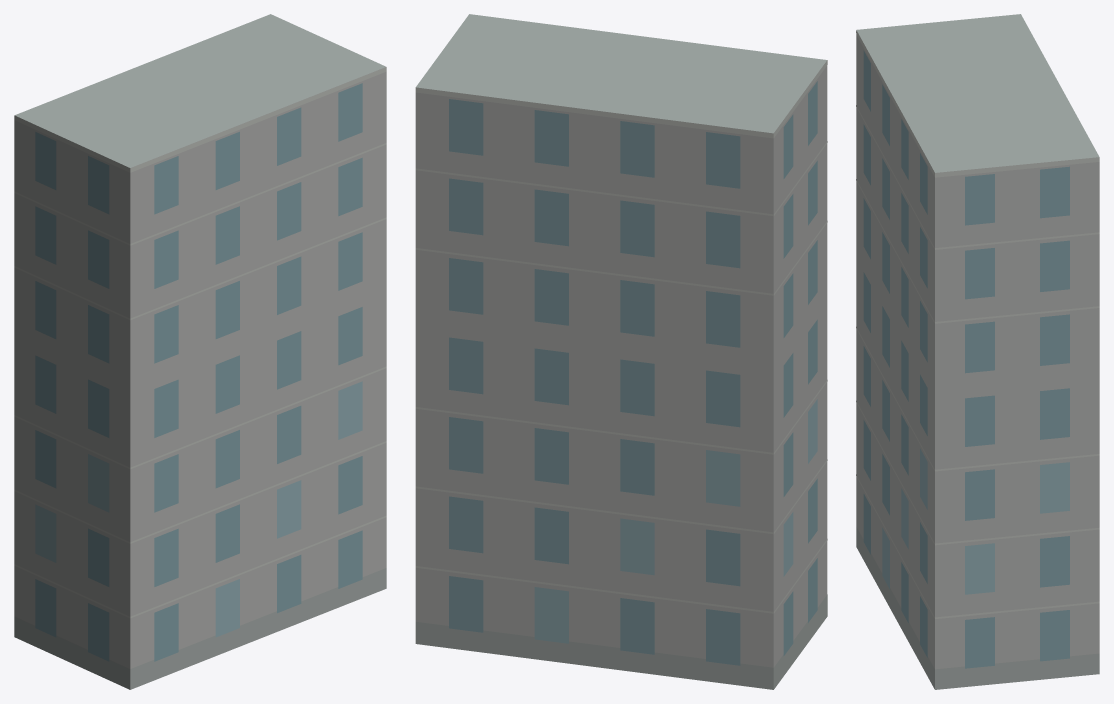
The model's file is survey-upis-32765627.glb.
3 renders of one model, left to right at view 1: azimuth 30°, elevation 25°; view 2: azimuth 150°, elevation 25°; view 3: azimuth 270°, elevation 25°, orthographic. The views are drawn at different scales.
Visible parts, largest first — view 1: survey-upis-32765627.tmp; view 2: survey-upis-32765627.tmp; view 3: survey-upis-32765627.tmp.
Part boxes in pixels (left/top/right/bottom): survey-upis-32765627.tmp: left=14, top=14, right=386, bottom=689; survey-upis-32765627.tmp: left=415, top=14, right=827, bottom=689; survey-upis-32765627.tmp: left=856, top=14, right=1099, bottom=689.
Size of the model in its own units: 17.63 by 26.7 by 11.42.
